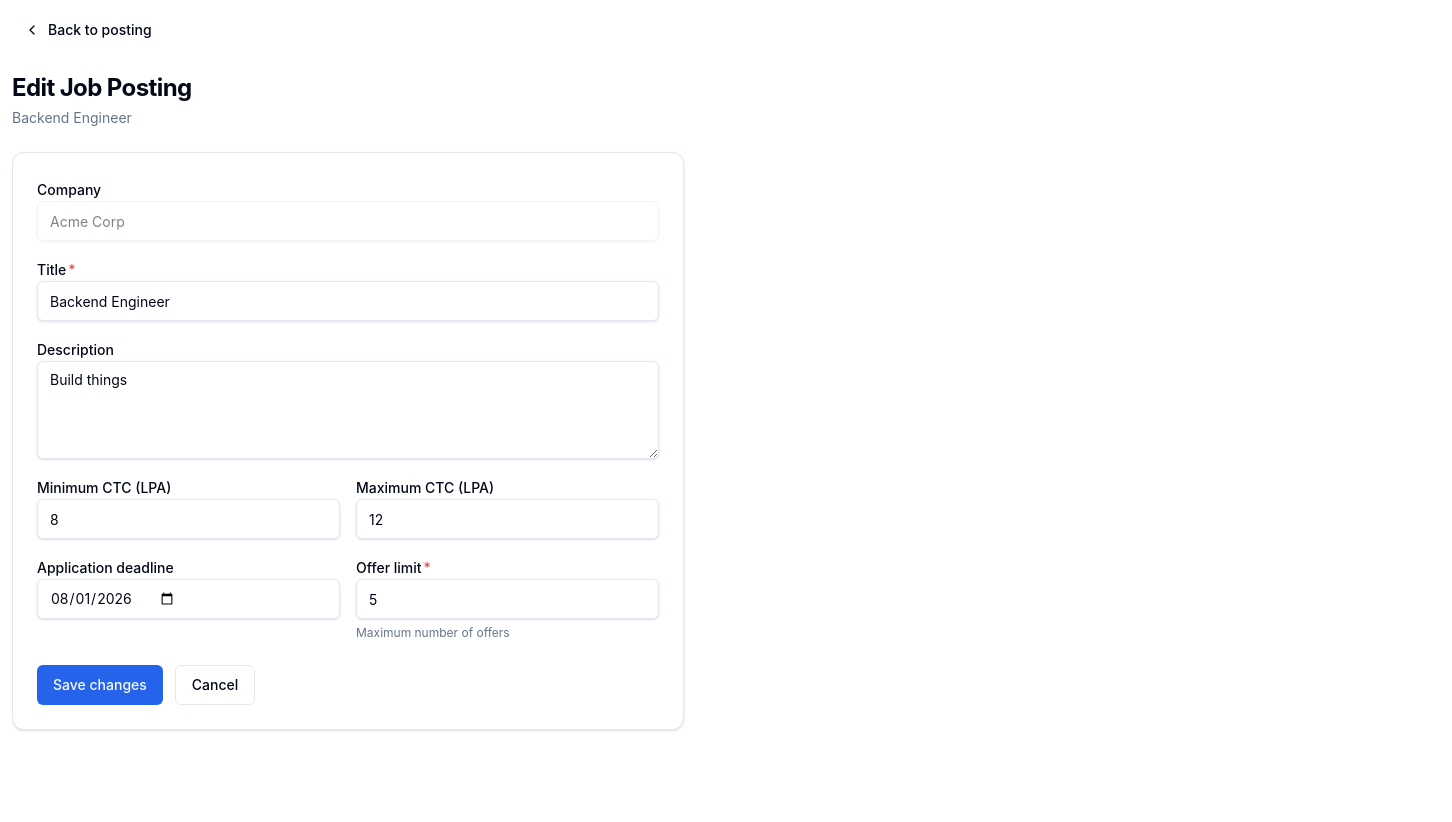
Test: EditJobPostingPage › pre-fills the form and PUTs an update without companyId
Step 1. Replace the text in the field labelled "Title*" with "Senior Backend Engineer" → (348, 301), box [37,281,659,321]
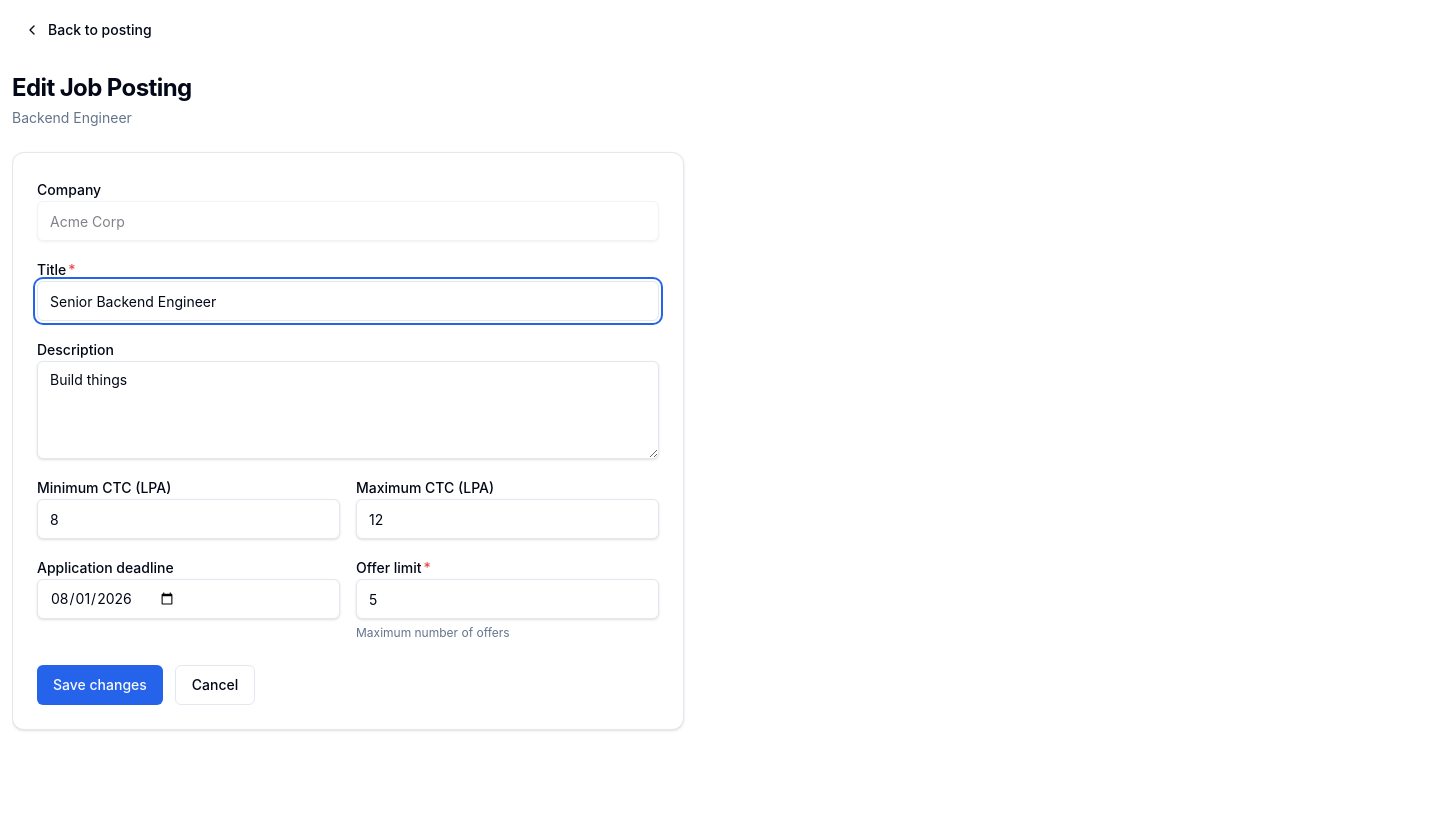
Step 2. Click the button "Save changes" → click(100, 685), box [37,665,163,705]
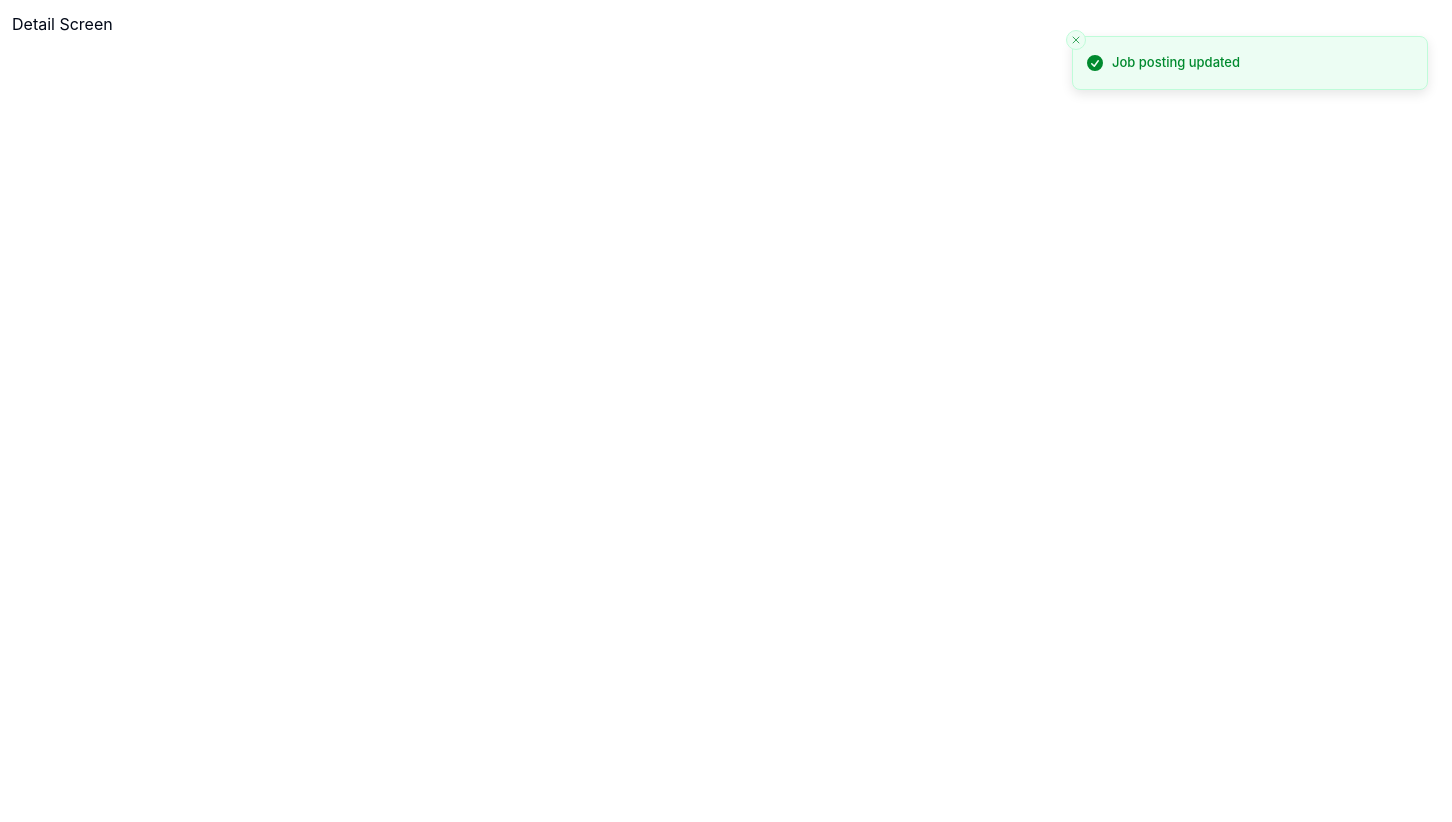
Now the text "Detail Screen" is shown, box [12,14,113,34]
